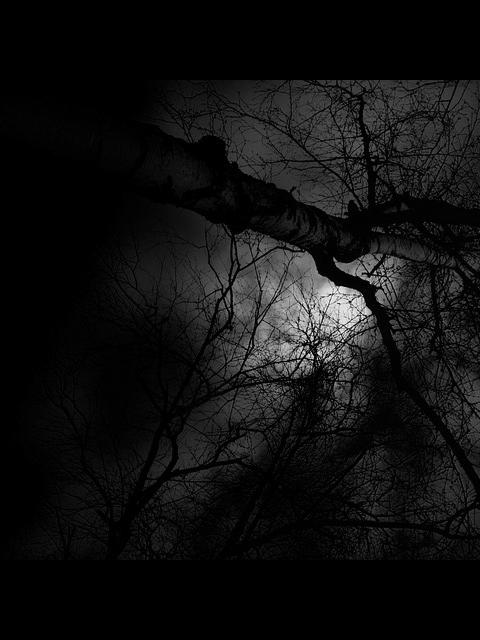Non_Gorille: (16, 102, 454, 560)
